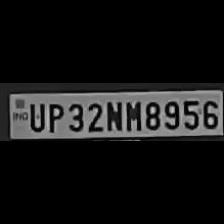2: (84, 98, 104, 132)
3: (64, 100, 84, 132)
5: (180, 97, 200, 128)
6: (200, 97, 218, 128)
8: (142, 97, 160, 130)
9: (161, 98, 179, 130)
M: (123, 97, 141, 130)
N: (104, 97, 122, 130)
P: (45, 100, 63, 132)
U: (26, 101, 44, 131)
